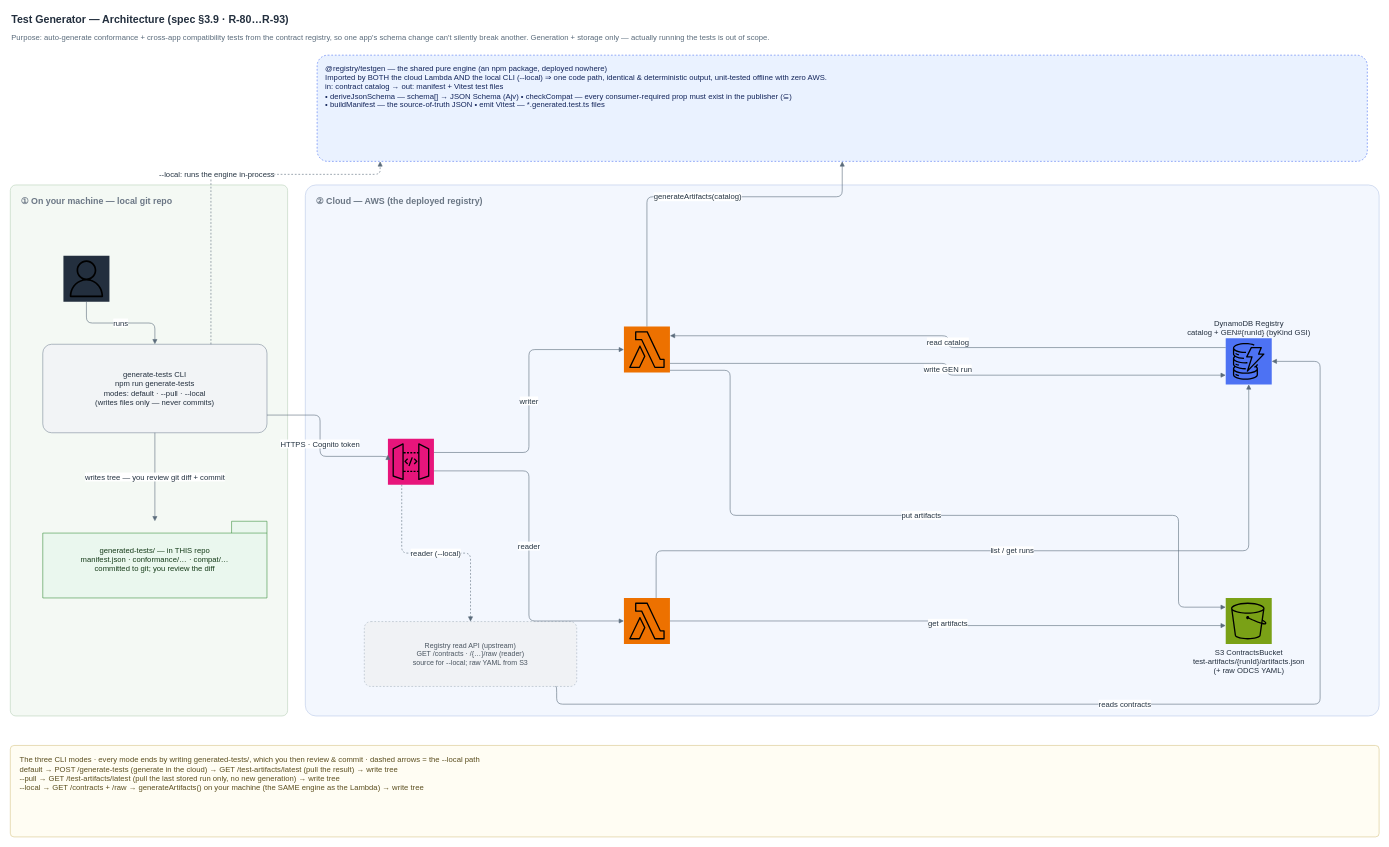
Some shapes in this 1389 by 847 pixel diagram are drawn without their labels. The shapes that lost their labels are listed below. From the top down, each one's centre as x and y in pixels, then its label:
At (x=86, y=278): "Developer / CI triggers a run".
At (x=647, y=349): "generate.handler POST /generate-tests (writer)".
At (x=411, y=461): "API Gateway HTTP API Lambda authorizer: writer vs reader token".
At (x=647, y=621): "test-artifacts handlers GET /test-artifacts [ /{id} | /latest ] (reader)".
